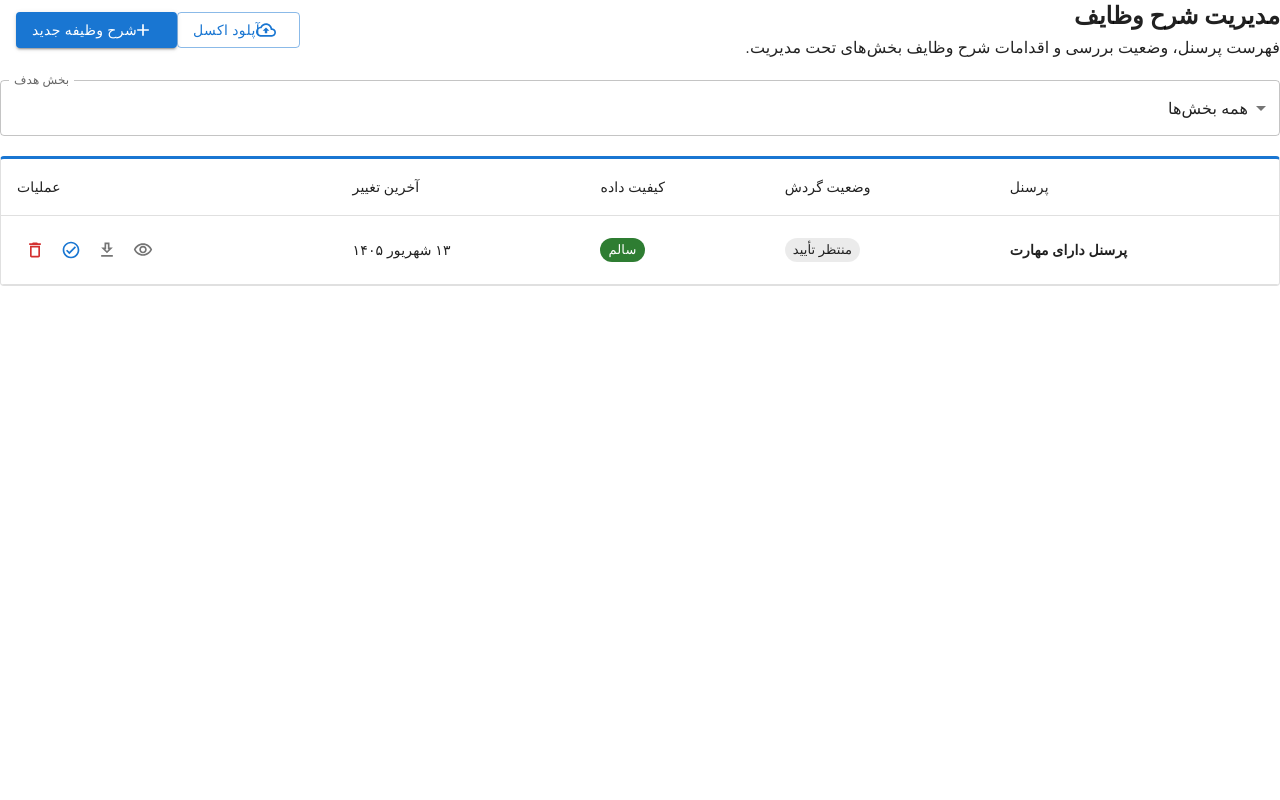
Test: DepartmentJobDescriptionsPage › renders selected skill names instead of internal ids
The image size is (1280, 800).
Click the button named "مشاهده شرح وظایف پرسنل دارای مهارت" at [143, 250], box [125, 232, 161, 268]
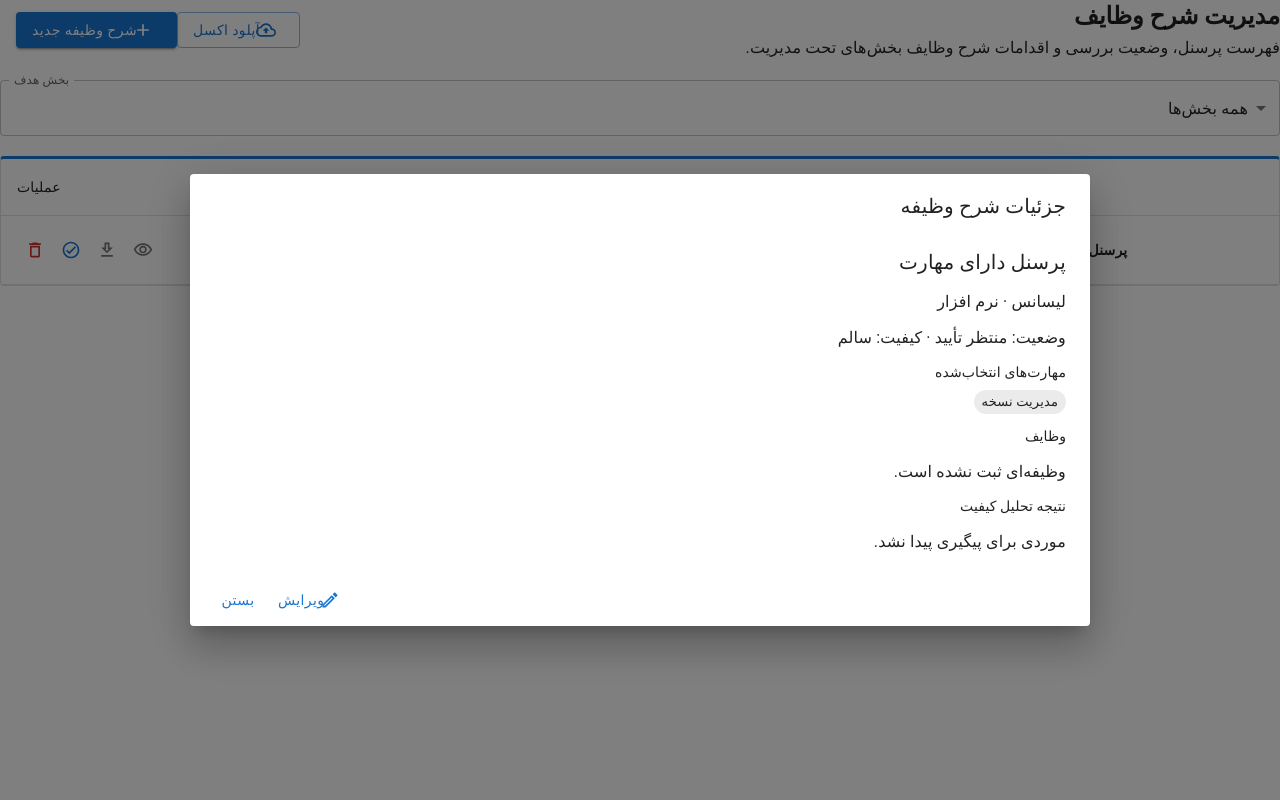
Now the text "مدیریت نسخه" is shown, box [982, 394, 1058, 409]
